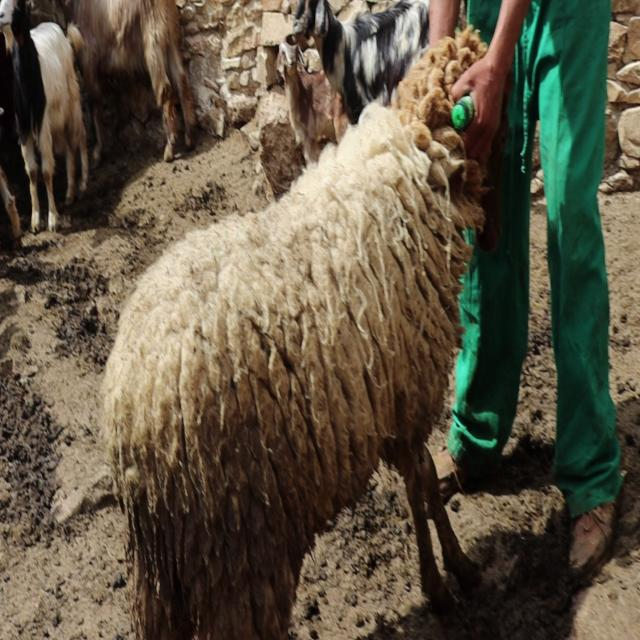Score_2: (103, 27, 510, 639)
